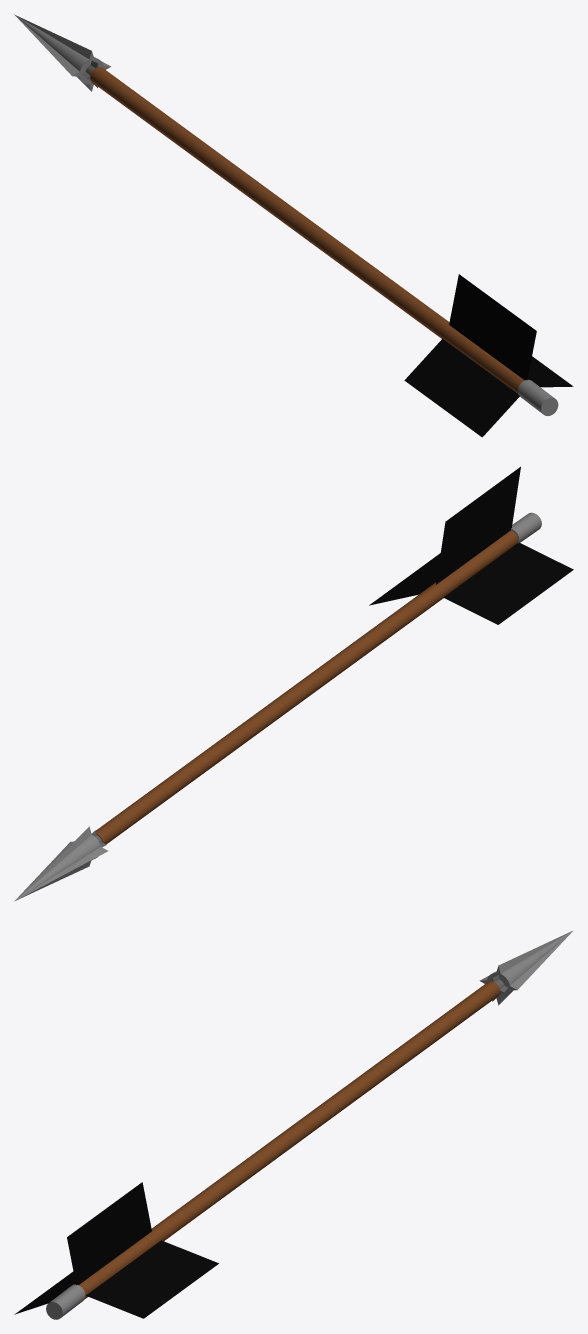
The model's file is Arrow.fbx.
The picture shows the model from 3 angles, top to bottom: view 1: azimuth 30°, elevation 25°; view 2: azimuth 150°, elevation 25°; view 3: azimuth 330°, elevation 25°; orthographic projection. The views are drawn at different scales.
Parts seen in each view (by area): view 1: Plane, Cylinder, Cone, Cylinder.001; view 2: Plane, Cylinder, Cone, Cylinder.001; view 3: Plane, Cylinder, Cone, Cylinder.001.
Boxes of the visible parts, left/top/right/bottom form: Plane: left=404, top=274, right=573, bottom=437; Cylinder: left=90, top=67, right=524, bottom=393; Cone: left=14, top=14, right=111, bottom=91; Cylinder.001: left=517, top=379, right=558, bottom=415; Plane: left=369, top=466, right=573, bottom=624; Cylinder: left=96, top=530, right=518, bottom=844; Cone: left=14, top=826, right=107, bottom=901; Cylinder.001: left=511, top=512, right=541, bottom=543; Plane: left=14, top=1182, right=218, bottom=1318; Cylinder: left=79, top=981, right=499, bottom=1299; Cone: left=479, top=930, right=573, bottom=1005; Cylinder.001: left=46, top=1284, right=85, bottom=1319.
Bounding box in the file's own units: 21.82 × 17.25 × 180.
